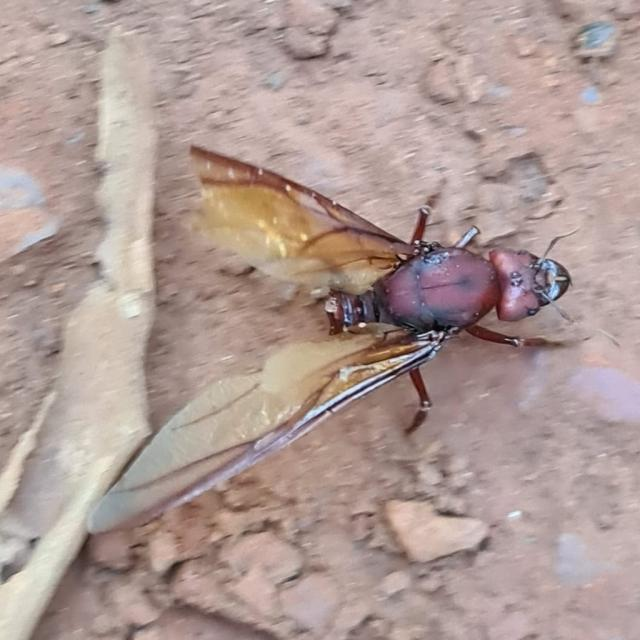Alive-Female-Alate: (83, 145, 622, 538)
